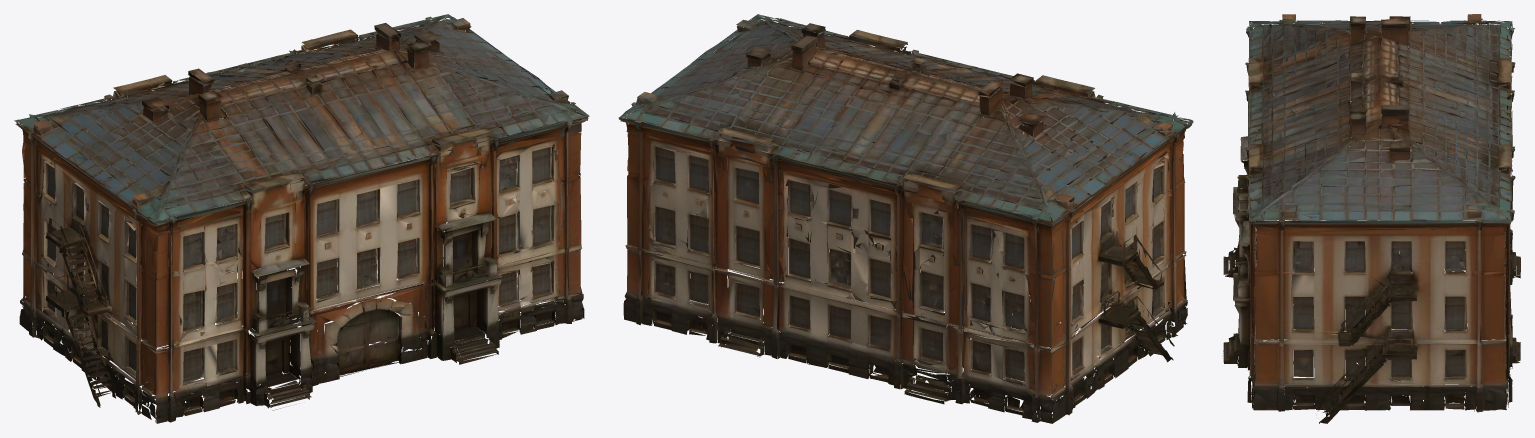
Rendered from ch03_perimeter_workers_hall.glb.
3 renders of one model, left to right at view 1: azimuth 30°, elevation 25°; view 2: azimuth 150°, elevation 25°; view 3: azimuth 270°, elevation 25°, orthographic. The views are drawn at different scales.
Visible parts, largest first — view 1: material; view 2: material; view 3: material.
Part boxes in pixels (bbox=[...]): material: bbox=[14, 14, 589, 423]; material: bbox=[618, 14, 1193, 423]; material: bbox=[1223, 14, 1520, 423].
Bounding box in the file's own units: 1.03 × 0.5572 × 0.598.
1 material, 1 textured.
